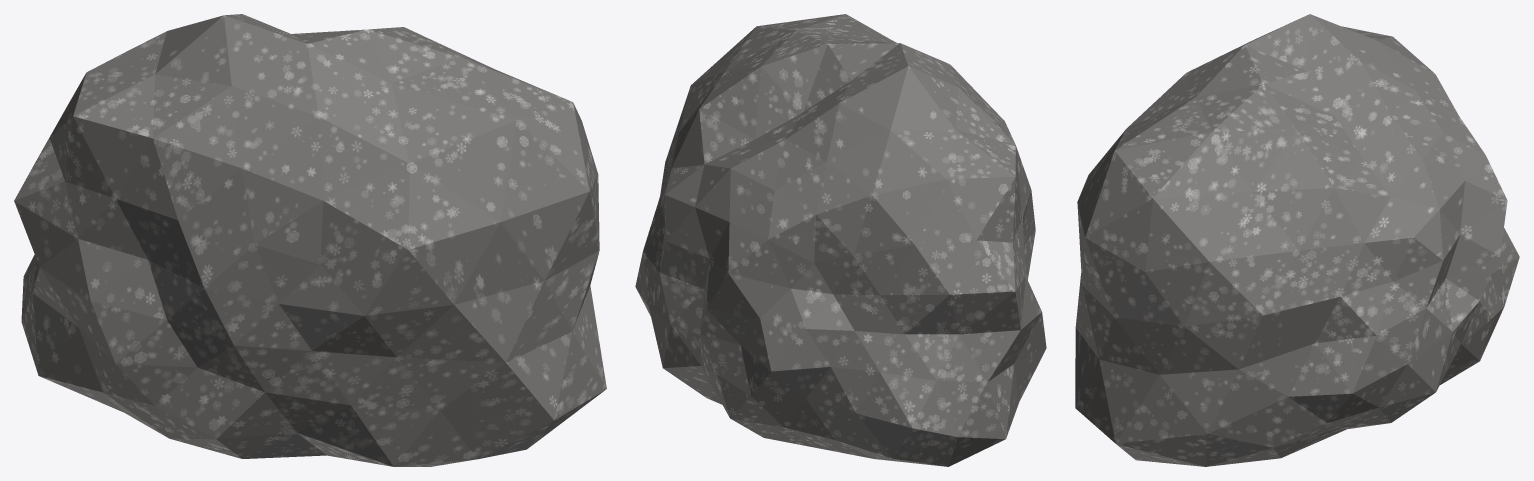
The model's file is Rock_Round.obj.
3 renders of one model, left to right at view 1: azimuth 30°, elevation 25°; view 2: azimuth 150°, elevation 25°; view 3: azimuth 270°, elevation 25°, orthographic. The views are drawn at different scales.
Parts seen in each view (by area): view 1: Rock_Round; view 2: Rock_Round; view 3: Rock_Round.
Boxes of the visible parts, x1=… form: Rock_Round: x1=14, y1=14, x2=606, y2=466; Rock_Round: x1=635, y1=14, x2=1046, y2=466; Rock_Round: x1=1075, y1=14, x2=1519, y2=466.
Size of the model in its own units: 3.26 by 2.82 by 3.09.
Materials: 1 (1 with a texture image).
